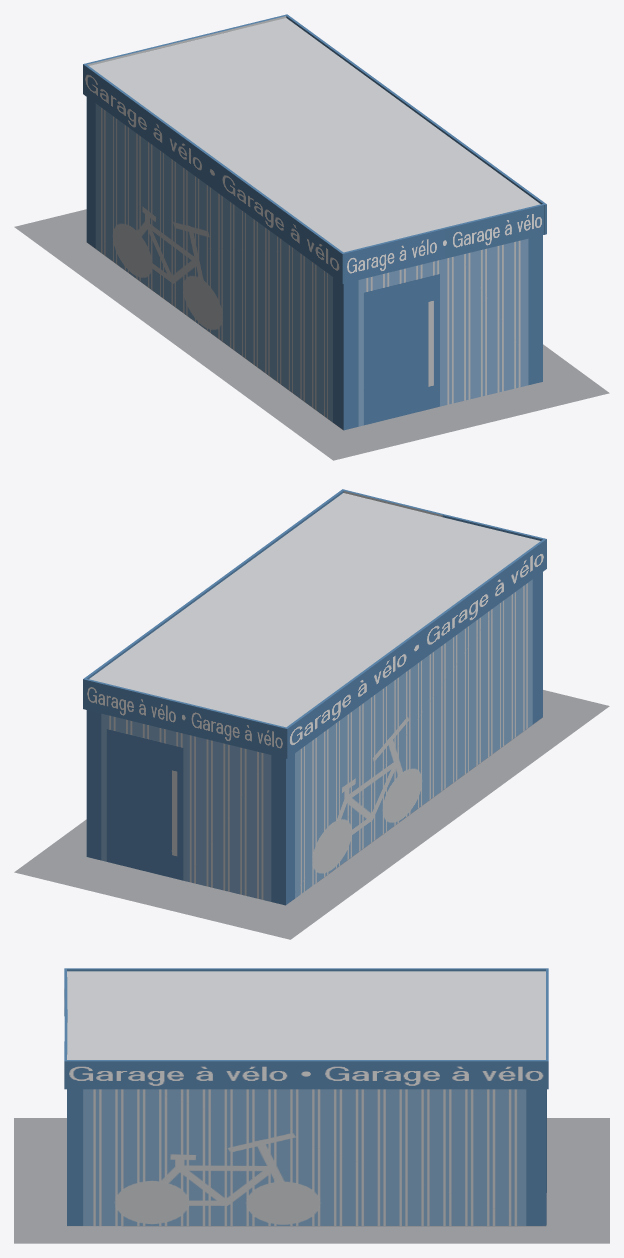
Rendered from garage.glb.
3 views of the same model, one above another, from view 1: azimuth 30°, elevation 25°; view 2: azimuth 150°, elevation 25°; view 3: azimuth 270°, elevation 25° (orthographic). The views are drawn at different scales.
Parts seen in each view (by area): view 1: Plan; view 2: Plan; view 3: Plan.
Part boxes in pixels (x1=…): Plan: x1=14, y1=14, x2=609, y2=460; Plan: x1=14, y1=489, x2=609, y2=939; Plan: x1=14, y1=968, x2=609, y2=1243.
Bounding box in the file's own units: 15 × 9.23 × 30.
1 material, 1 textured.
